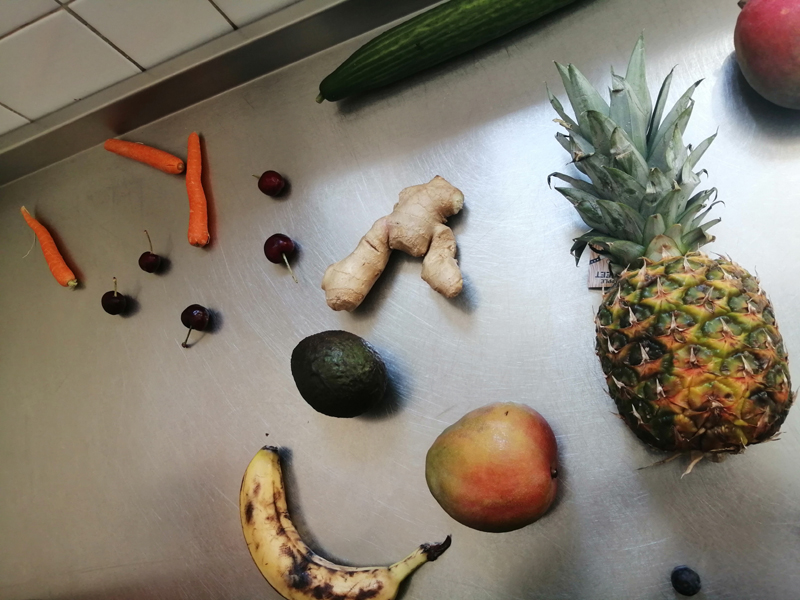avocado: (288, 328, 395, 424)
blueberry: (665, 555, 706, 598)
carrot: (12, 197, 89, 291), (88, 132, 183, 179), (185, 124, 215, 249)
cherry: (259, 232, 308, 283), (243, 168, 297, 204), (129, 225, 168, 274), (175, 303, 216, 348), (97, 271, 132, 320)
ginger: (318, 174, 467, 317)
mango: (415, 396, 567, 533)
pineapple: (557, 36, 800, 462)
